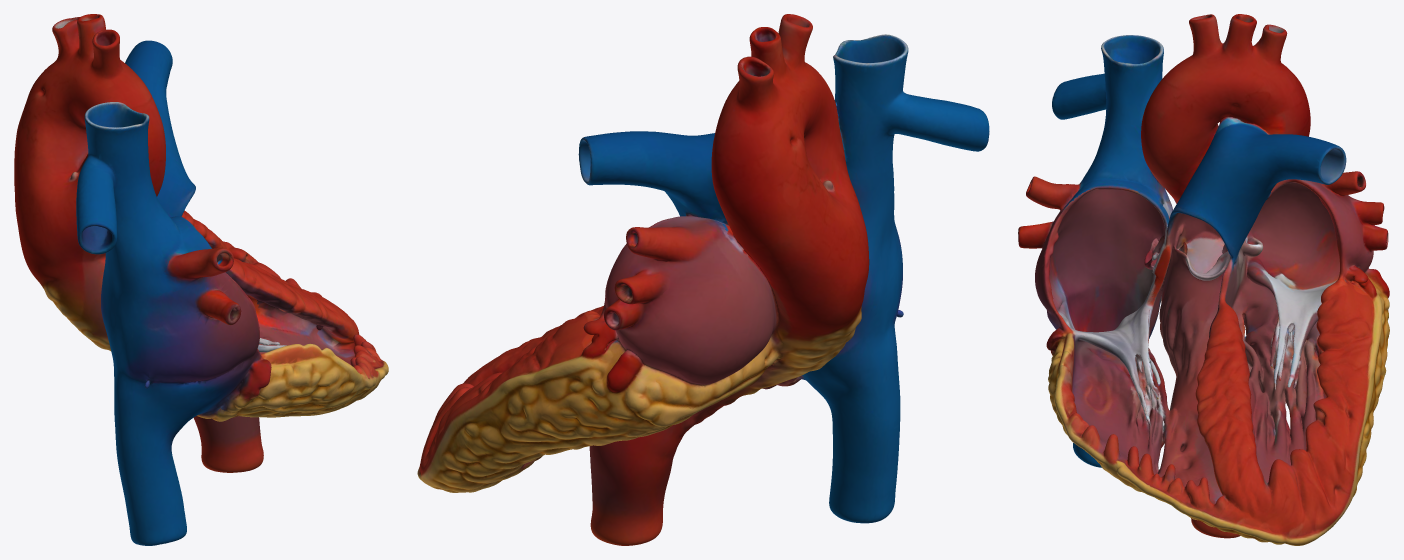
The model's file is heart_anatomy.glb.
3 views of the same model, side by side, from view 1: azimuth 30°, elevation 25°; view 2: azimuth 150°, elevation 25°; view 3: azimuth 270°, elevation 25° (orthographic). The views are drawn at different scales.
Parts seen in each view (by area): view 1: Object_4; view 2: Object_4; view 3: Object_4.
Part boxes in pixels (left/top/right/bottom): Object_4: left=14, top=14, right=388, bottom=545; Object_4: left=417, top=14, right=989, bottom=545; Object_4: left=1018, top=14, right=1389, bottom=545.
Size of the model in its own units: 0.8402 by 1 by 0.7462.
Materials: 1 (1 with a texture image).
